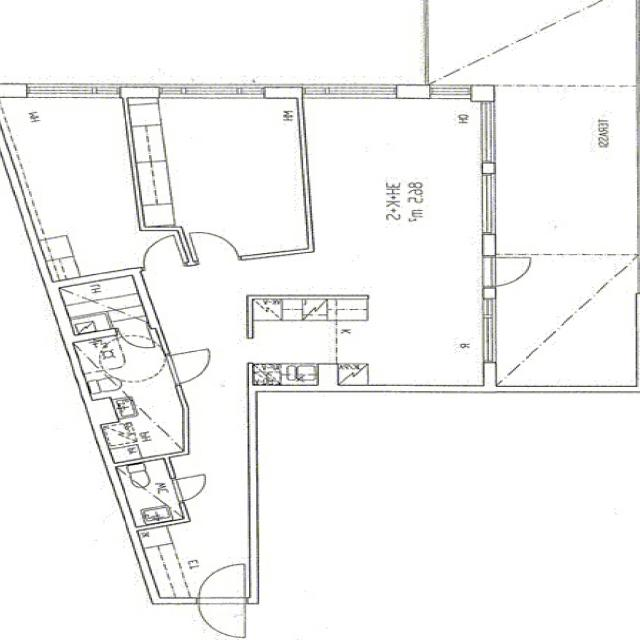door: (165, 347, 218, 383), (200, 564, 244, 604), (200, 597, 244, 637), (192, 227, 237, 264), (139, 234, 183, 271), (484, 258, 530, 286), (118, 322, 156, 352), (172, 474, 212, 500)
